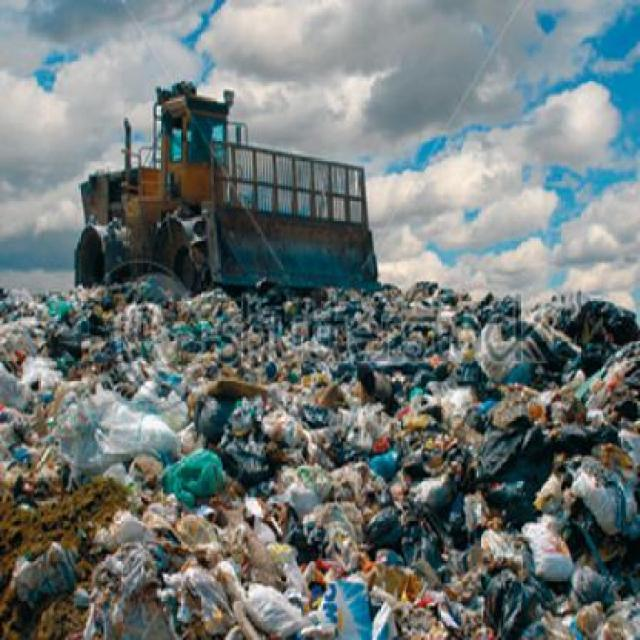garbage: (2, 286, 640, 633)
